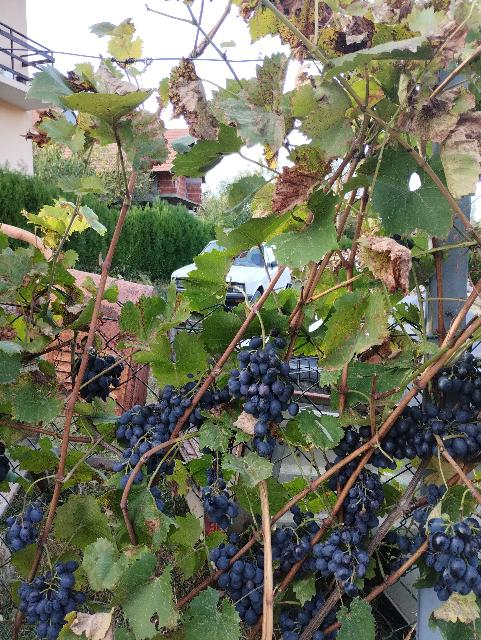grapes: (370, 352, 481, 469), (228, 328, 299, 458), (115, 381, 198, 466), (18, 560, 86, 640), (425, 518, 481, 601), (219, 549, 265, 625), (272, 506, 320, 572), (80, 355, 125, 402), (5, 502, 44, 552)
